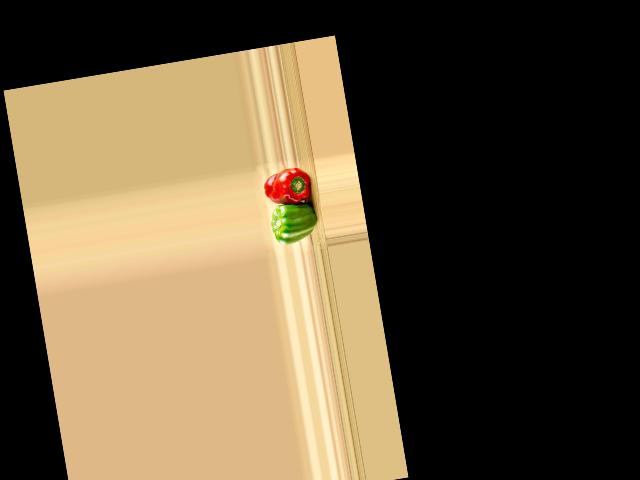bell_pepper: (261, 164, 313, 209)
